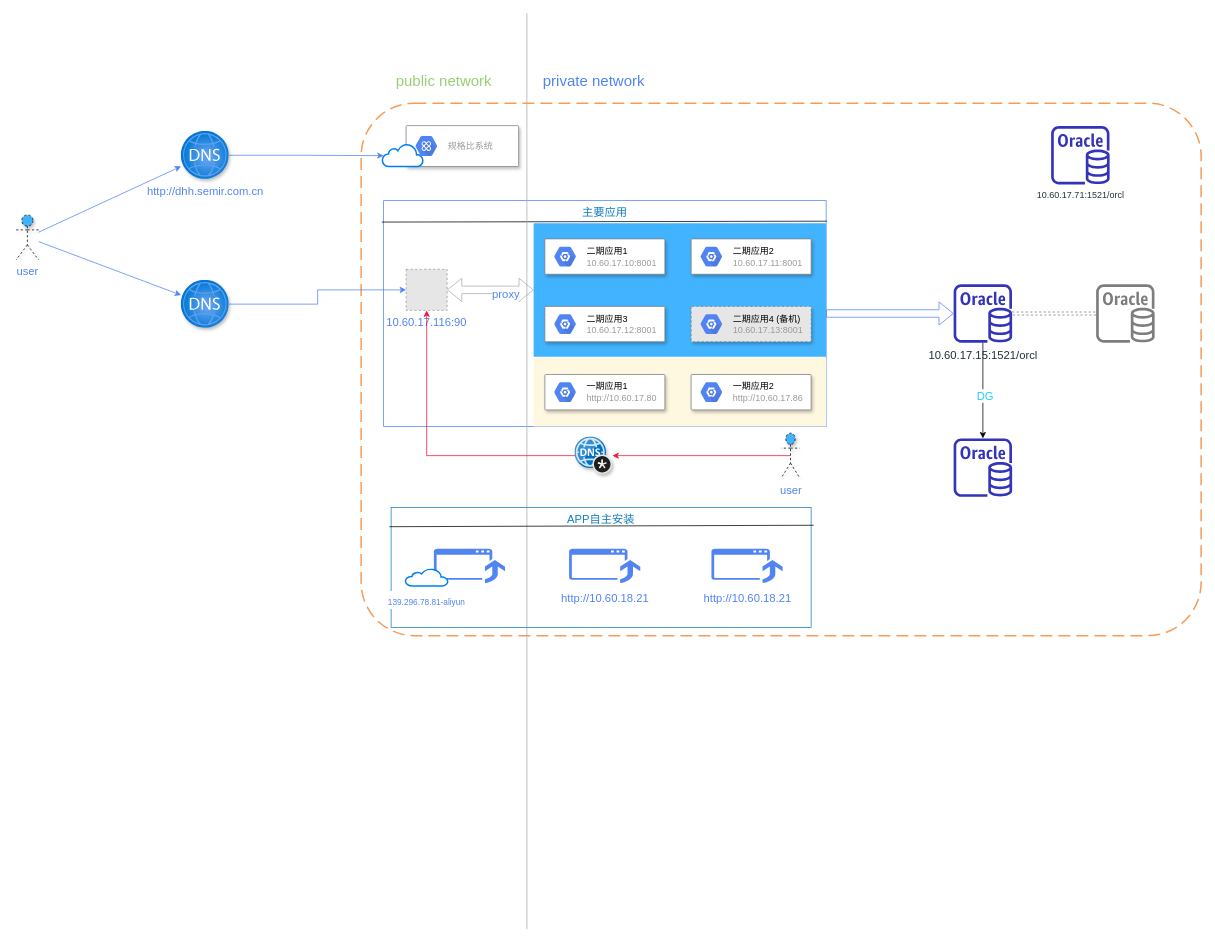
This 1215x944 diagram has some shape labels left out. Grey dashed boxes stand in for pictures. The shapes that lost their labels are listed below. From the top down, each one's centre as x and y in pixels, then its label:
At pixel 402 155: "47.100.208.66-aliyun".
At pixel 205 305: "http://dhh.semirdhh.com".
At pixel 1125 313: "10.60.17.15:1521/orcl (备机)".
At pixel 594 456: "http://dhh.semirapp.cn:90 Local Named".
At pixel 982 467: "10.60.17.81:1521/orcl ( 只读)".
